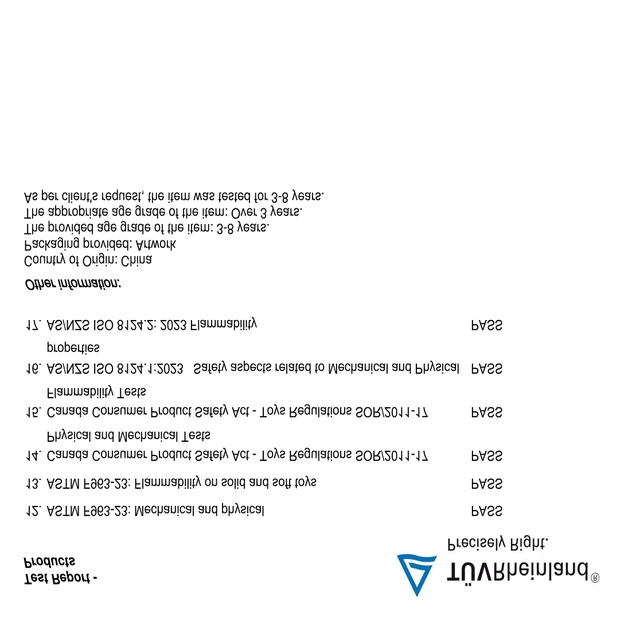tuv_rheinland: (392, 552, 605, 597)
